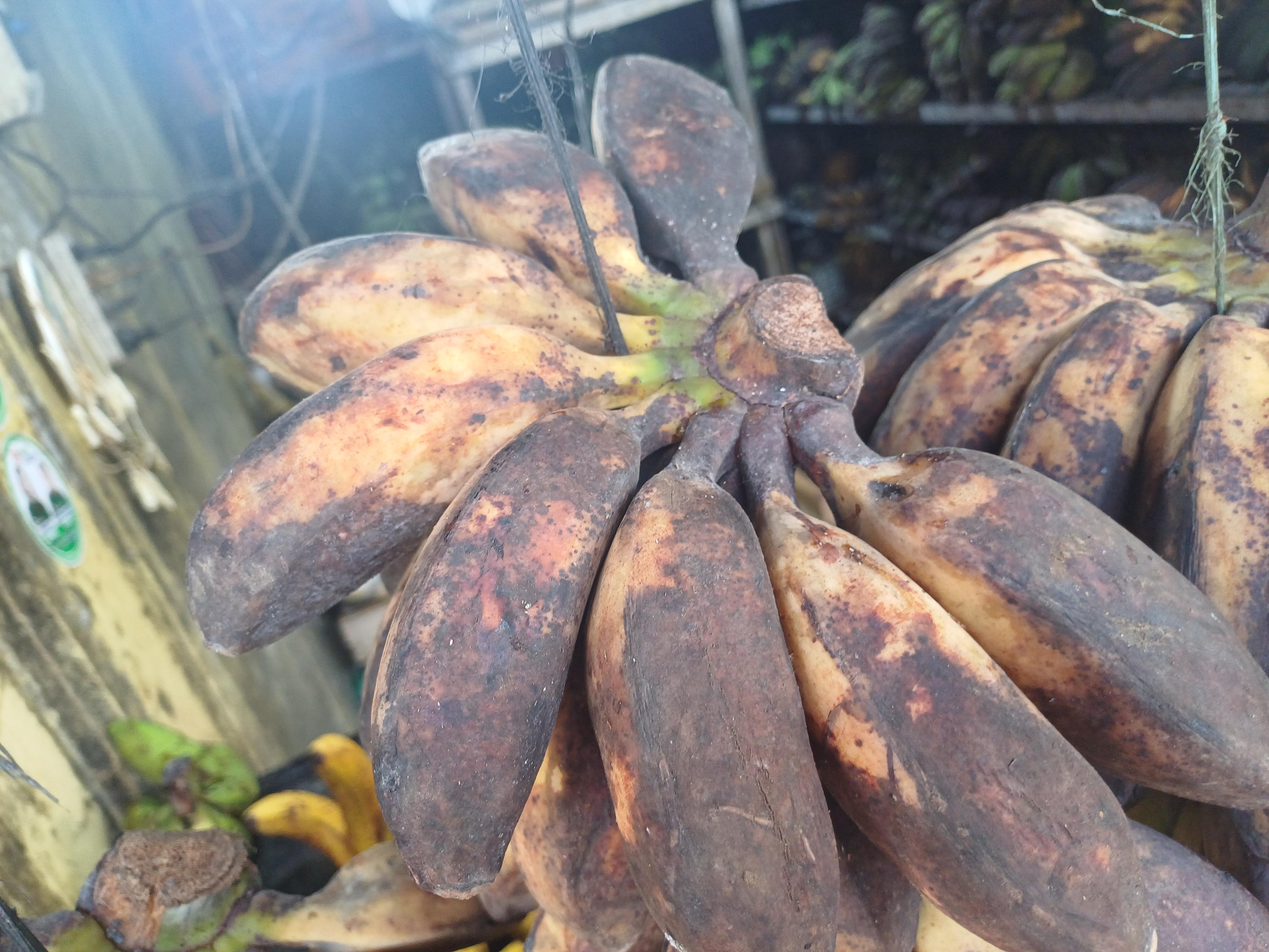overripe: (184, 57, 1269, 952)
ripe: (846, 195, 1269, 671)
